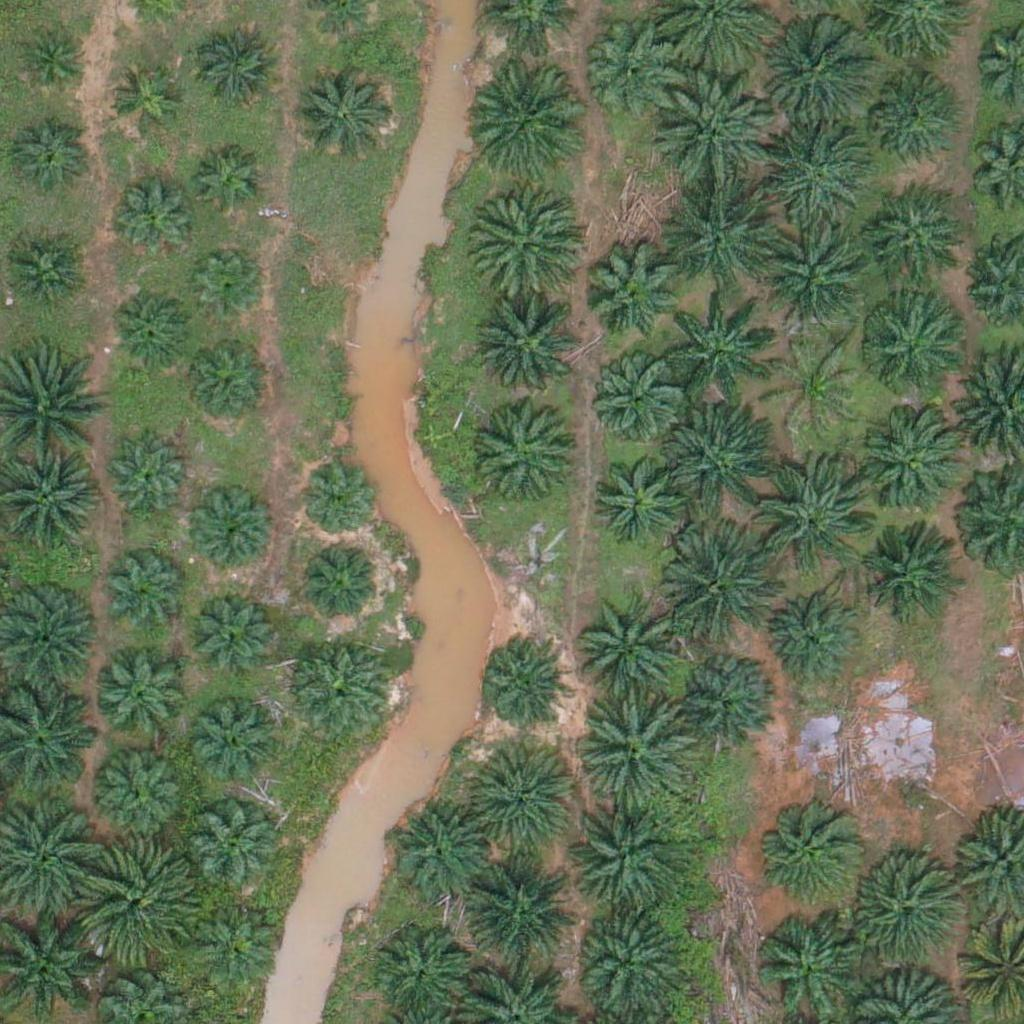Kelapa_Sawit: (576, 901, 689, 1015), (664, 529, 777, 643), (567, 806, 680, 920), (465, 742, 578, 856), (471, 60, 584, 174), (665, 403, 778, 516), (655, 77, 768, 190), (467, 184, 580, 297), (81, 843, 194, 956), (859, 404, 971, 518), (760, 115, 872, 229), (761, 228, 873, 342), (754, 793, 866, 907), (464, 850, 576, 964), (474, 293, 586, 407), (768, 12, 880, 126), (840, 856, 952, 969), (757, 459, 869, 572), (662, 290, 774, 403), (666, 175, 778, 288), (578, 583, 690, 696), (582, 697, 694, 810), (767, 332, 867, 433), (674, 650, 774, 751), (584, 350, 684, 451), (588, 446, 688, 547), (477, 402, 577, 503), (292, 66, 392, 167), (290, 635, 390, 736), (182, 696, 282, 797), (390, 803, 490, 904), (860, 523, 960, 623), (864, 194, 964, 294), (857, 295, 957, 395), (763, 596, 863, 696), (581, 243, 681, 343), (92, 742, 192, 842), (96, 646, 196, 746), (584, 20, 684, 120), (109, 172, 197, 261), (866, 77, 954, 165), (7, 116, 95, 204), (179, 339, 267, 427), (193, 900, 281, 988), (102, 549, 190, 637), (195, 25, 283, 113), (478, 636, 565, 724), (108, 287, 195, 375), (101, 435, 188, 523), (190, 492, 277, 580), (297, 538, 384, 626), (191, 808, 278, 896), (186, 587, 273, 675), (191, 252, 266, 328), (300, 465, 375, 541), (14, 25, 89, 101), (106, 63, 181, 138), (194, 147, 269, 222)
